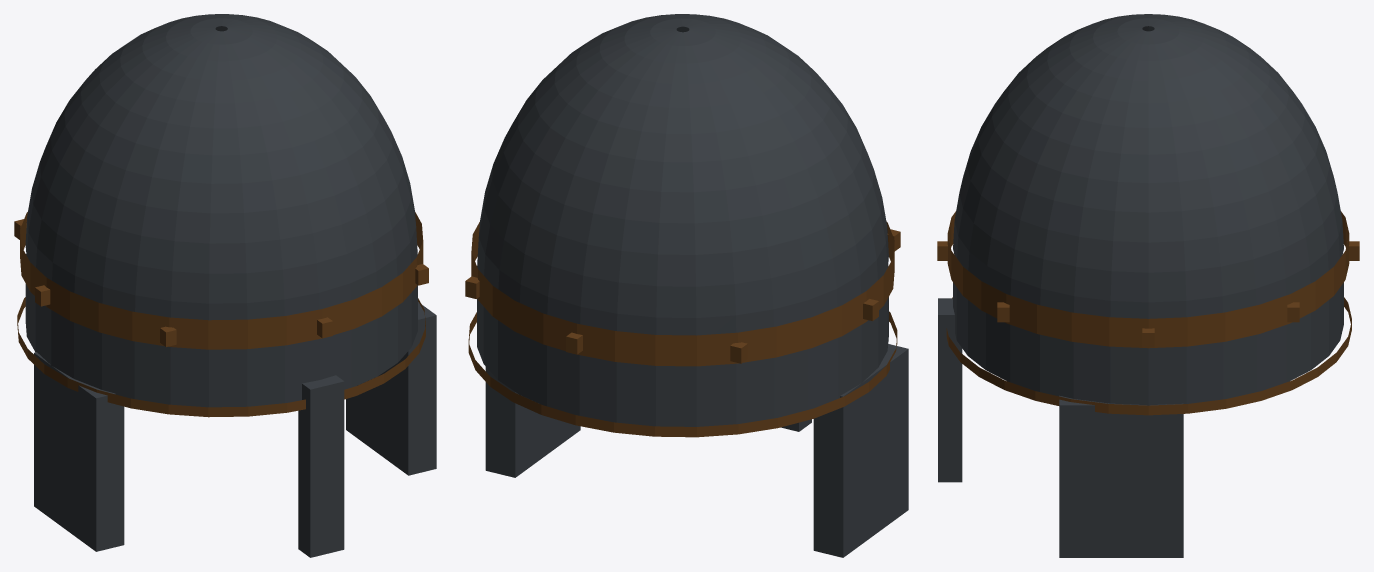
Rendered from helmet_LOD0.obj.
3 views of the same model, side by side, from view 1: azimuth 30°, elevation 25°; view 2: azimuth 150°, elevation 25°; view 3: azimuth 270°, elevation 25° (orthographic). The views are drawn at different scales.
Bounding box in the file's own units: 0.313 × 0.3654 × 0.313.
